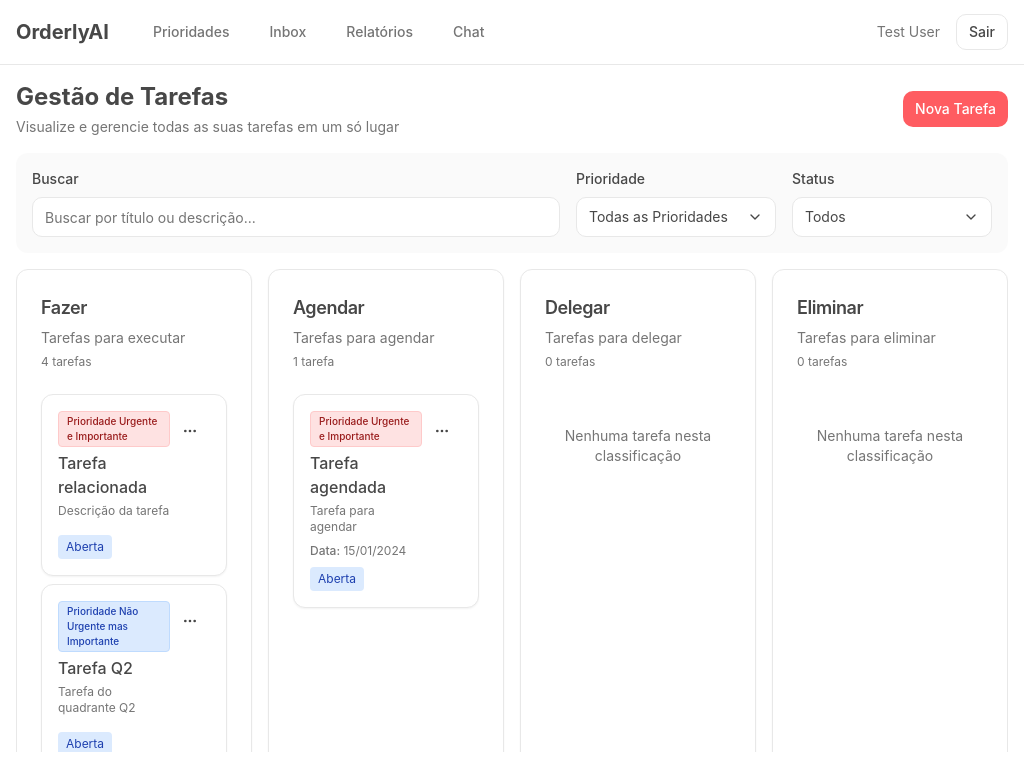
Test: AllTasksPage › Operações de Tarefa › deve completar tarefa ao clicar em Completar
Expected: the heading "Gestão de Tarefas" is shown, [16, 82, 228, 111]
Expected: the heading "Tarefa relacionada" is shown, [58, 453, 147, 497]
Click the 3rd button: (190, 431) [170, 411, 210, 451]
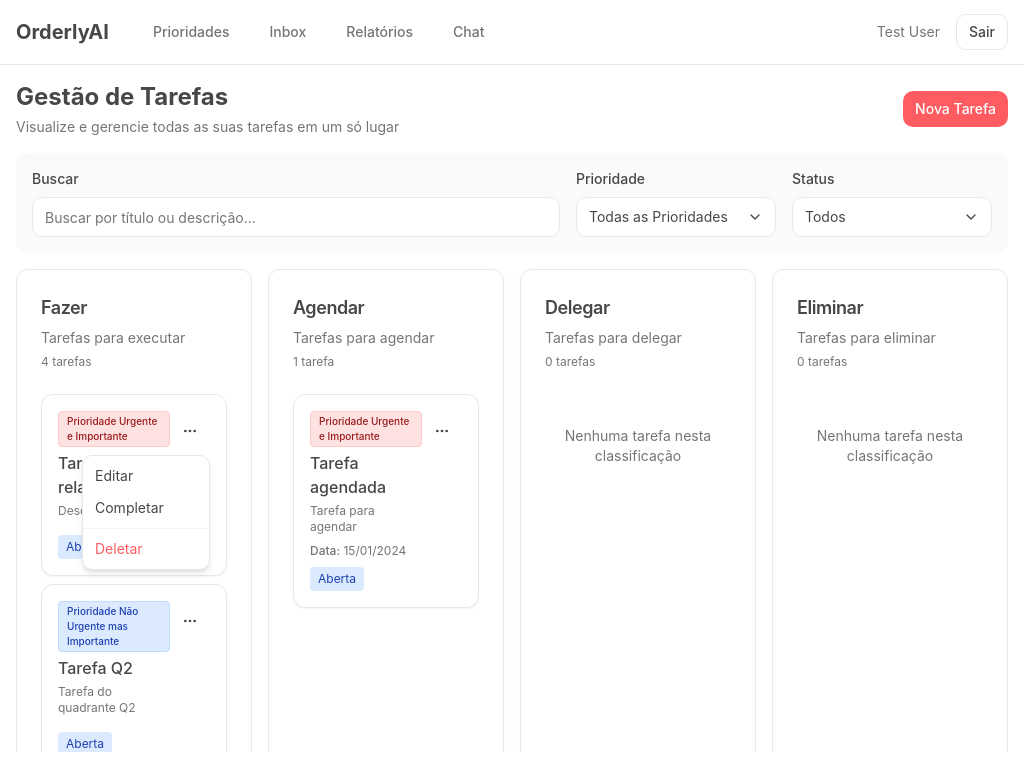
Expected: the menu item "Completar" is shown, [95, 499, 164, 516]
